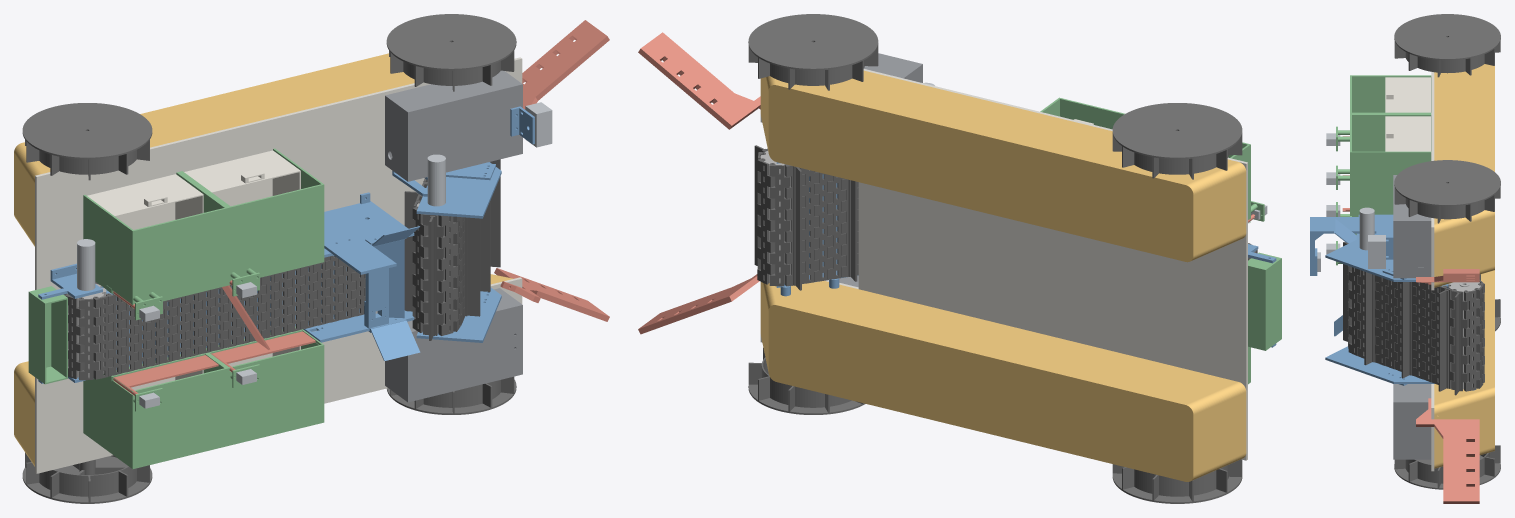
Rendered from assembly.glb.
3 views of the same model, side by side, from view 1: azimuth 30°, elevation 25°; view 2: azimuth 150°, elevation 25°; view 3: azimuth 270°, elevation 25° (orthographic). The views are drawn at different scales.
Parts seen in each view (by area): view 1: deck (5 mm PVC foam), c2_belt, c1_belt, wheel_+285_port, wheel_-285_port, lid_port, sorter_cover_front_port, sorter_cover_rear_port, sorter_cover_front_stbd, sorter_cover_rear_stbd, lid_stbd, c2_front (+26 smaller); view 2: deck (5 mm PVC foam), pontoon_0_stern_stbd, pontoon_1_mid_stbd, pontoon_2_mid_port, pontoon_2_mid_stbd, pontoon_1_mid_port, pontoon_0_stern_port, c1_belt, pontoon_3_bow_stbd, wheel_+285_port, wheel_-285_port, pontoon_3_bow_port (+7 smaller); view 3: c1_belt, wheel_+285_port, wheel_-285_port, sorter_frame_front_port, guide_boom_stbd, pontoon_3_bow_port, pontoon_3_bow_stbd, pontoon_1_mid_port, battery_box, electronics_box, c1_upper, pontoon_2_mid_port (+17 smaller).
Part boxes in pixels (x1,y1,x2,y2): deck (5 mm PVC foam): (35, 57, 522, 473); c2_belt: (63, 255, 365, 380); c1_belt: (404, 159, 500, 340); wheel_+285_port: (386, 14, 516, 91); wheel_-285_port: (22, 103, 152, 180); lid_port: (407, 83, 522, 181); sorter_cover_front_port: (227, 184, 324, 285); sorter_cover_rear_port: (131, 207, 227, 308); sorter_cover_front_stbd: (227, 344, 324, 445); sorter_cover_rear_stbd: (131, 367, 227, 468); lid_stbd: (407, 304, 522, 402); c2_front: (303, 192, 414, 342); deck (5 mm PVC foam): (760, 69, 1247, 460); pontoon_0_stern_stbd: (1088, 354, 1246, 481); pontoon_1_mid_stbd: (966, 324, 1124, 457); pontoon_2_mid_port: (845, 75, 1002, 208); pontoon_2_mid_stbd: (845, 295, 1003, 428); pontoon_1_mid_port: (966, 104, 1112, 237); pontoon_0_stern_port: (1088, 143, 1246, 262); c1_belt: (754, 145, 858, 290); pontoon_3_bow_stbd: (760, 281, 881, 398); wheel_+285_port: (748, 14, 878, 90); wheel_-285_port: (1112, 103, 1242, 179); pontoon_3_bow_port: (760, 70, 881, 178); c1_belt: (1343, 242, 1484, 395); wheel_+285_port: (1394, 160, 1500, 223); wheel_-285_port: (1394, 14, 1500, 77); sorter_frame_front_port: (1352, 113, 1431, 215); guide_boom_stbd: (1416, 398, 1479, 503); pontoon_3_bow_port: (1434, 210, 1494, 287); pontoon_3_bow_stbd: (1434, 359, 1494, 468); pontoon_1_mid_port: (1434, 81, 1494, 129); battery_box: (1395, 384, 1431, 459); electronics_box: (1395, 175, 1431, 278); c1_upper: (1325, 238, 1401, 382); pontoon_2_mid_port: (1434, 130, 1494, 171).
Bounding box in the file's own units: 929 × 518 × 315.
